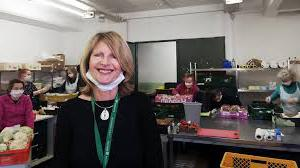mask_weared_incorrect: (88, 54, 118, 93)
with_mask: (10, 85, 24, 97), (280, 79, 293, 87), (183, 79, 193, 88), (23, 72, 32, 81), (66, 71, 76, 79)
